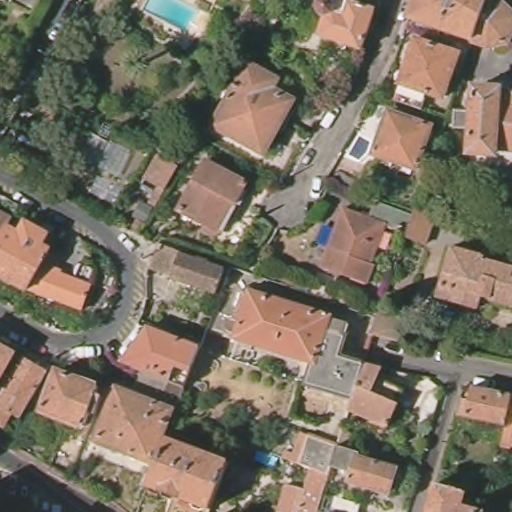pool: (144, 1, 201, 30), (249, 448, 280, 473)
